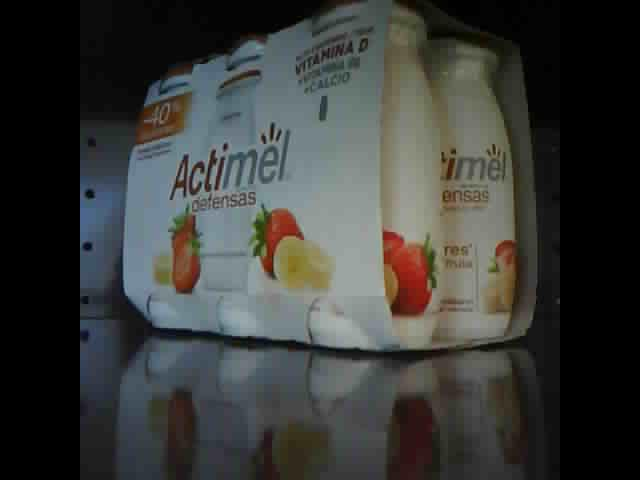actimel: (122, 1, 542, 354)
